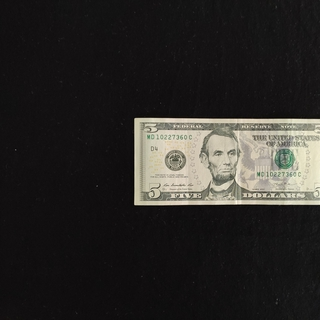5USDFront: (133, 117, 320, 206)
